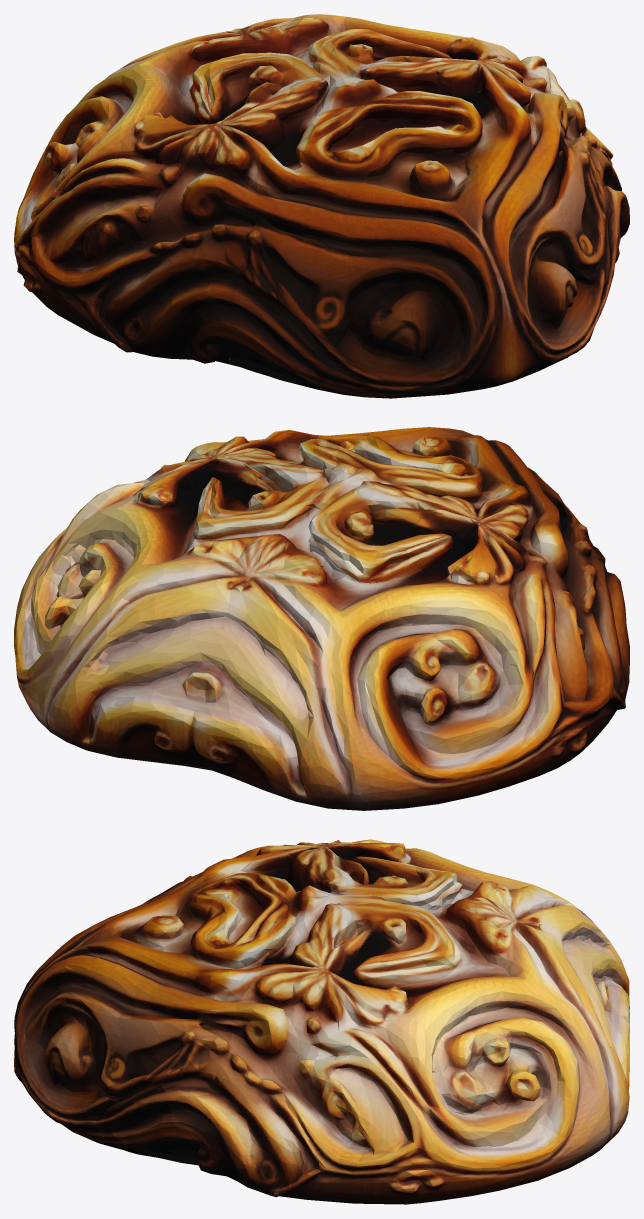
Rendered from wooden-paperweight-vintage.jpeg.glb.
3 views of the same model, one above another, from view 1: azimuth 30°, elevation 25°; view 2: azimuth 150°, elevation 25°; view 3: azimuth 270°, elevation 25° (orthographic). The views are drawn at different scales.
Visible parts, largest first — view 1: world; view 2: world; view 3: world.
Boxes of the visible parts, bbox=[...] form: world: bbox=[14, 14, 629, 398]; world: bbox=[14, 427, 629, 810]; world: bbox=[14, 839, 629, 1204].
Size of the model in its own units: 1 by 0.3831 by 1.
Materials: 1 (1 with a texture image).
